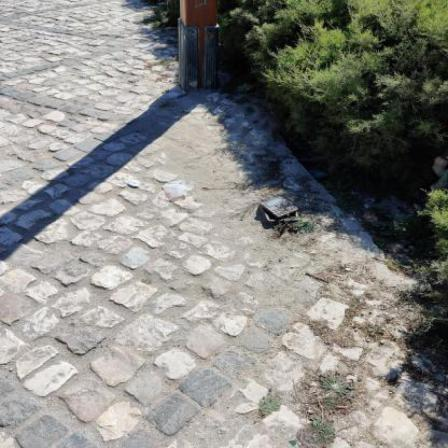Broken glass: (289, 440, 299, 448)
Cigarette: (204, 187, 214, 191), (334, 275, 342, 279)
Cup: (163, 180, 198, 201)
Unlabeled litter: (58, 142, 83, 155), (129, 181, 142, 189)
